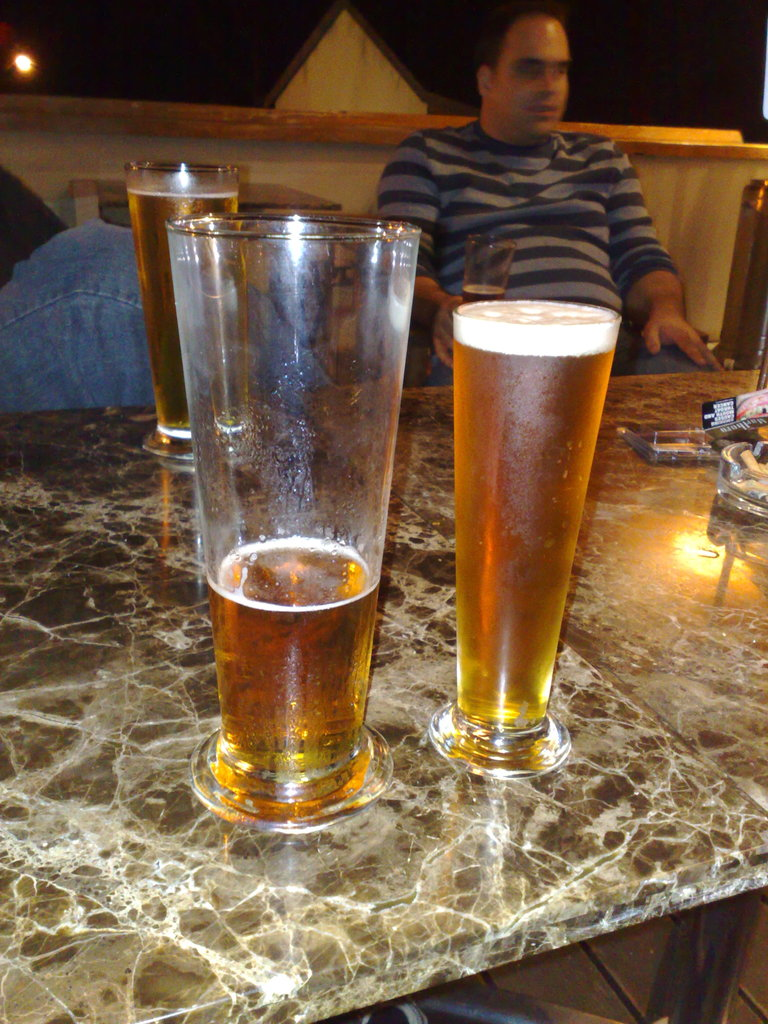Beer: (447, 302, 620, 730), (207, 531, 374, 821), (131, 170, 241, 428)
